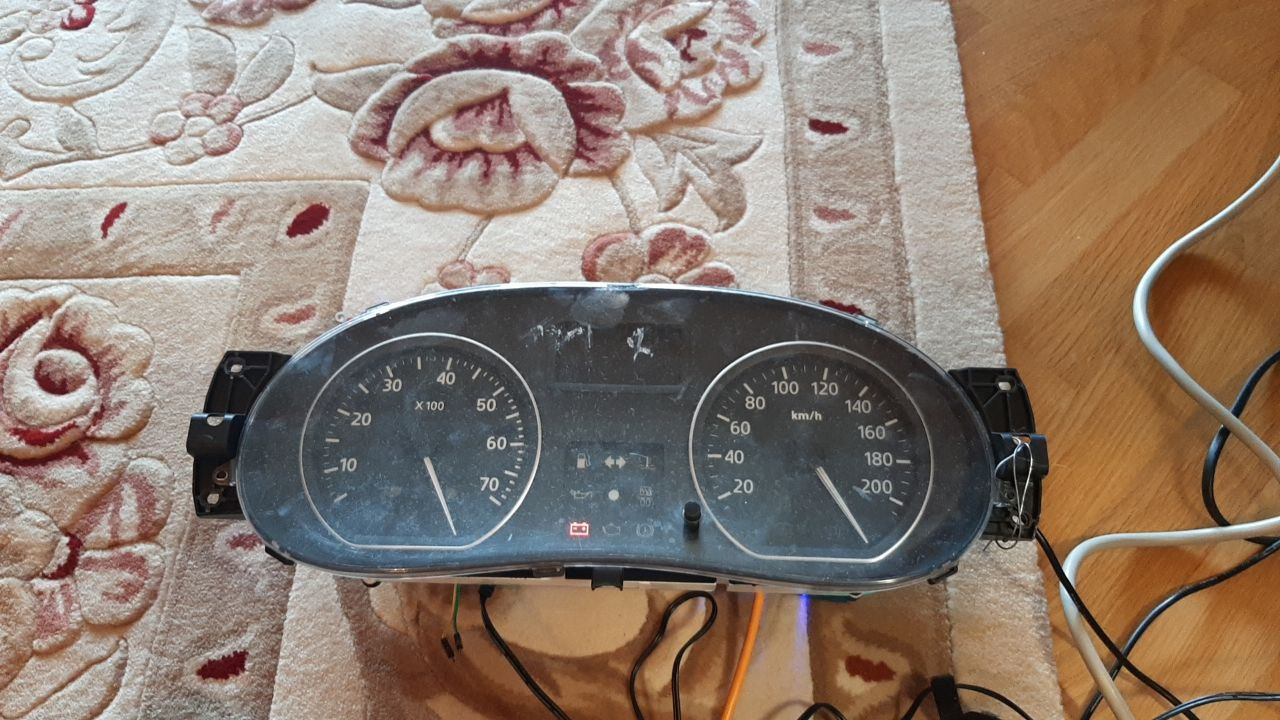accumulator: (564, 516, 590, 537)
